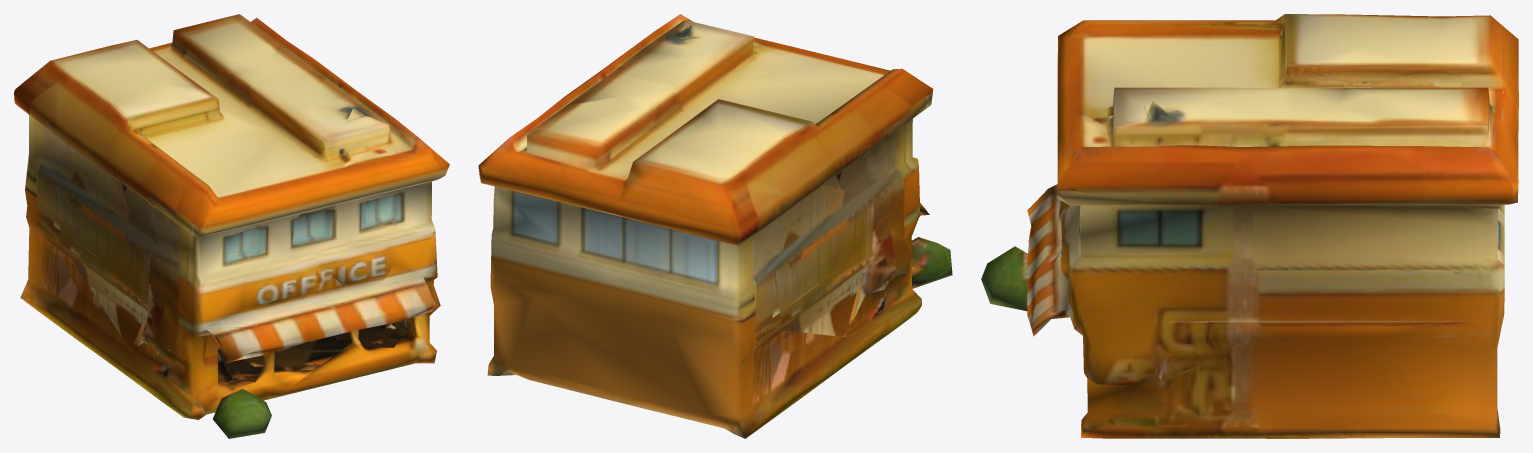
File: building office small.fbx
3 renders of one model, left to right at view 1: azimuth 30°, elevation 25°; view 2: azimuth 150°, elevation 25°; view 3: azimuth 270°, elevation 25°, orthographic. The views are drawn at different scales.
Parts seen in each view (by area): view 1: building office small.001; view 2: building office small.001; view 3: building office small.001.
Boxes of the visible parts, x1,y1,x2,y2 form: building office small.001: (14,14,449,438); building office small.001: (478,14,952,438); building office small.001: (981,14,1518,438).
Size of the model in its own units: 262 by 232 by 370.
